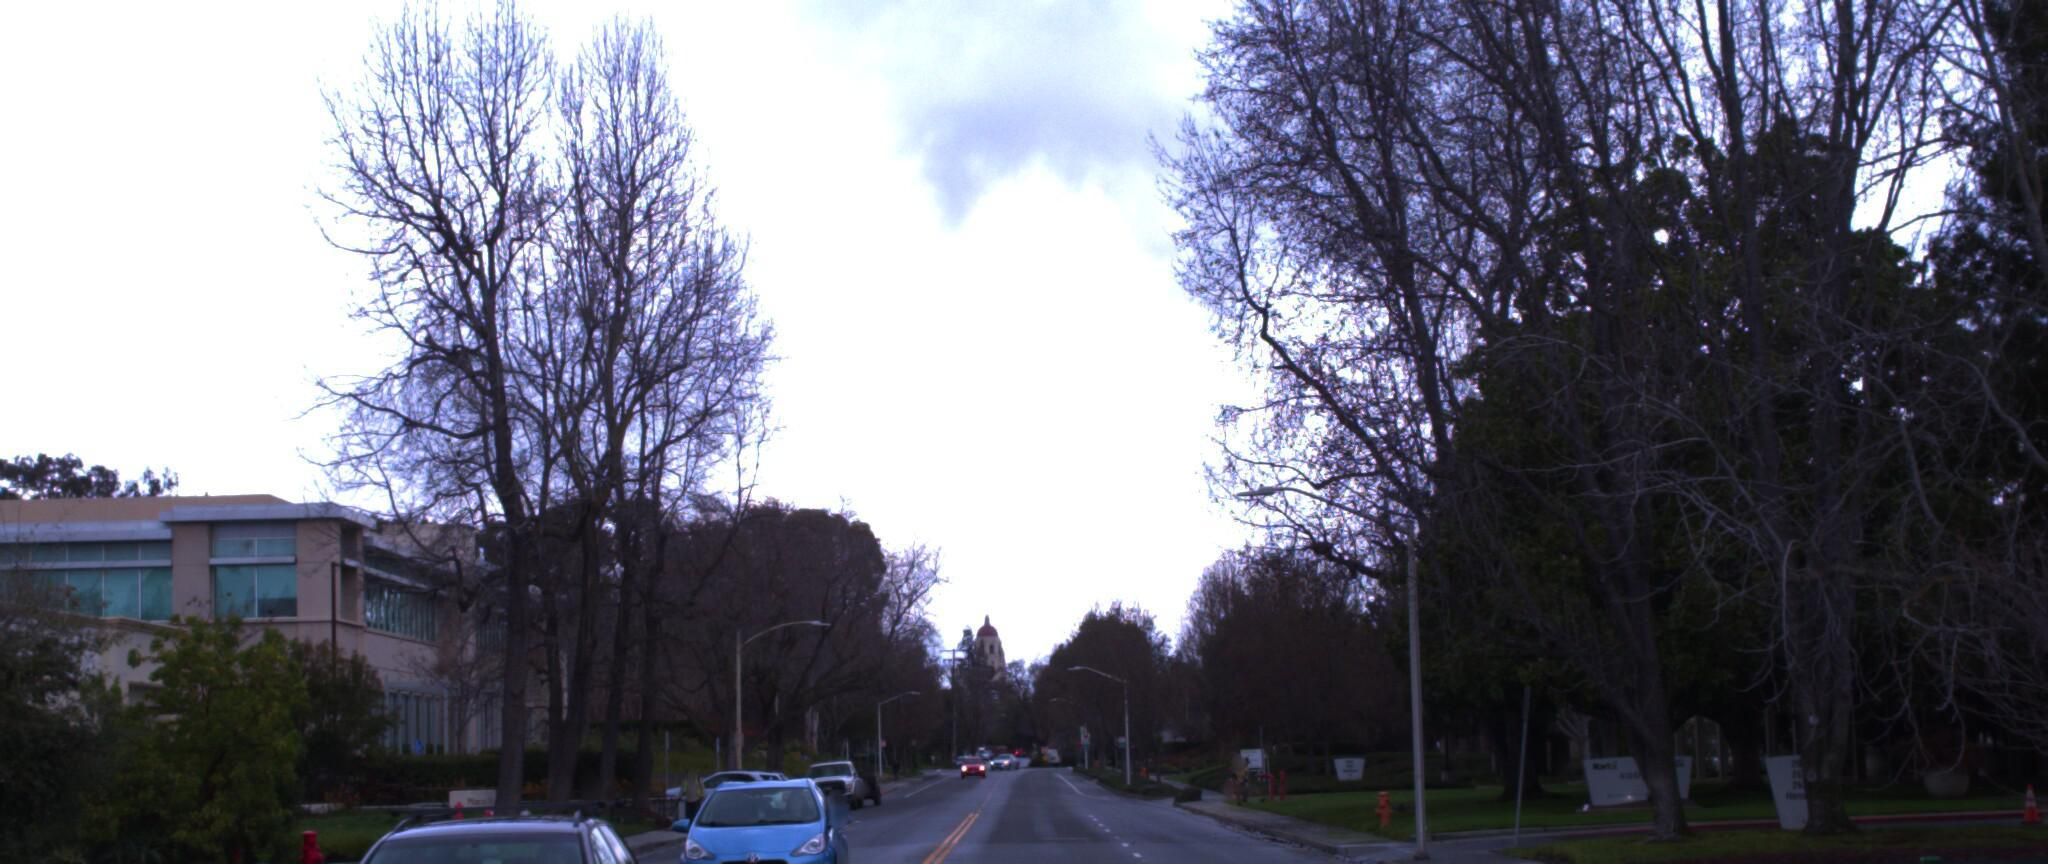car: (256, 783, 699, 864), (674, 767, 865, 864), (0, 814, 78, 864)
